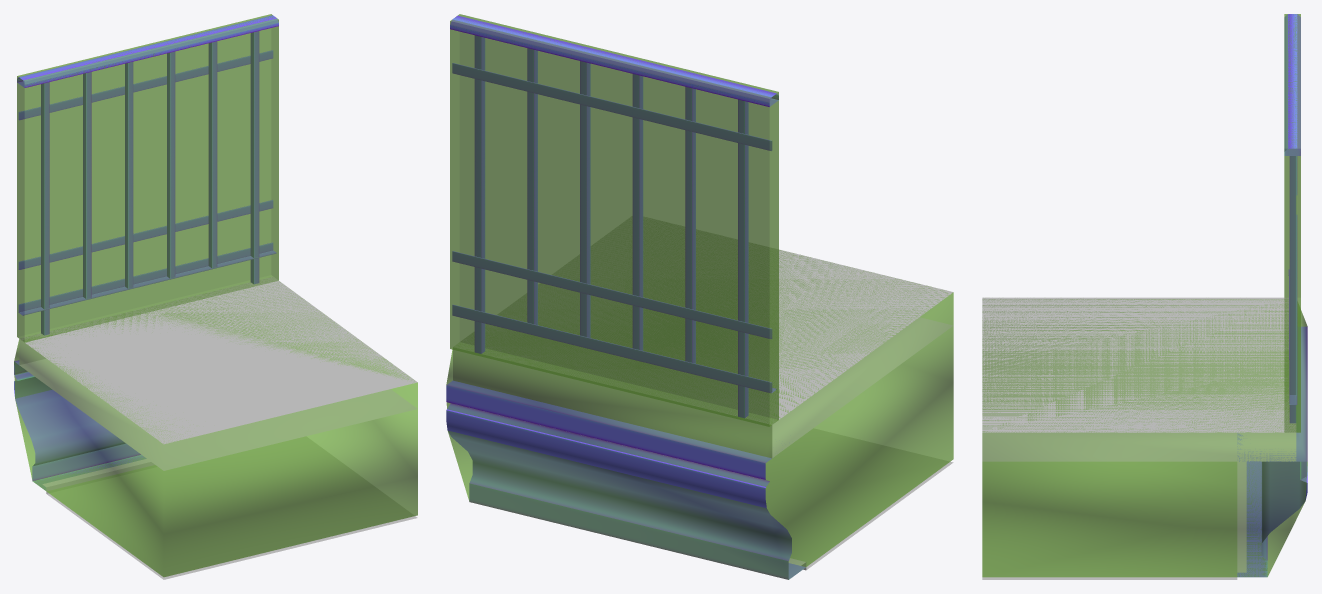
Rendered from F_md_Balcony_L_mid_02.fbx.
The picture shows the model from 3 angles, left to right: view 1: azimuth 30°, elevation 25°; view 2: azimuth 150°, elevation 25°; view 3: azimuth 270°, elevation 25°; orthographic projection. The views are drawn at different scales.
Visible parts, largest first — view 1: F_md_Balcony_L_mid_02_LOD0, F_md_Balcony_L_mid_02_col_02, F_md_Balcony_L_mid_02_col_01; view 2: F_md_Balcony_L_mid_02_LOD0, F_md_Balcony_L_mid_02_col_02, F_md_Balcony_L_mid_02_col_01; view 3: F_md_Balcony_L_mid_02_LOD0, F_md_Balcony_L_mid_02_col_01, F_md_Balcony_L_mid_02_col_02.
Part boxes in pixels (bbox=[...]): F_md_Balcony_L_mid_02_LOD0: bbox=[14, 15, 417, 579]; F_md_Balcony_L_mid_02_col_02: bbox=[17, 14, 278, 342]; F_md_Balcony_L_mid_02_col_01: bbox=[14, 281, 417, 577]; F_md_Balcony_L_mid_02_LOD0: bbox=[446, 15, 953, 579]; F_md_Balcony_L_mid_02_col_02: bbox=[450, 14, 778, 426]; F_md_Balcony_L_mid_02_col_01: bbox=[446, 250, 953, 579]; F_md_Balcony_L_mid_02_LOD0: bbox=[982, 14, 1307, 579]; F_md_Balcony_L_mid_02_col_01: bbox=[982, 299, 1307, 577]; F_md_Balcony_L_mid_02_col_02: bbox=[1284, 14, 1300, 432].
Size of what is drawn, in the model's own units: 100 by 149 by 102.
